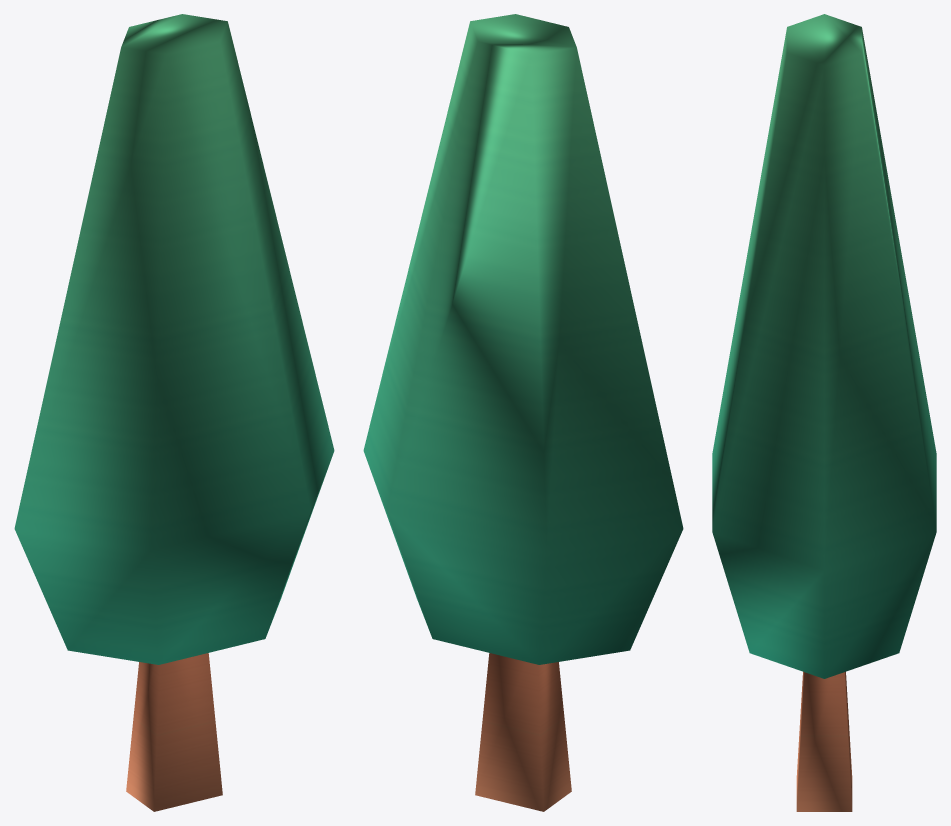
File: n1_tree-small_lev1.002.glb
3 renders of one model, left to right at view 1: azimuth 30°, elevation 25°; view 2: azimuth 150°, elevation 25°; view 3: azimuth 270°, elevation 25°, orthographic.
Visible parts, largest first — view 1: n1_tree-small_lev1.002; view 2: n1_tree-small_lev1.002; view 3: n1_tree-small_lev1.002.
Boxes of the visible parts, bbox=[...] form: n1_tree-small_lev1.002: bbox=[14, 14, 334, 811]; n1_tree-small_lev1.002: bbox=[363, 14, 683, 811]; n1_tree-small_lev1.002: bbox=[712, 14, 936, 811].
Bounding box in the file's own units: 1.88 × 4.27 × 1.15.
1 material, 1 textured.
